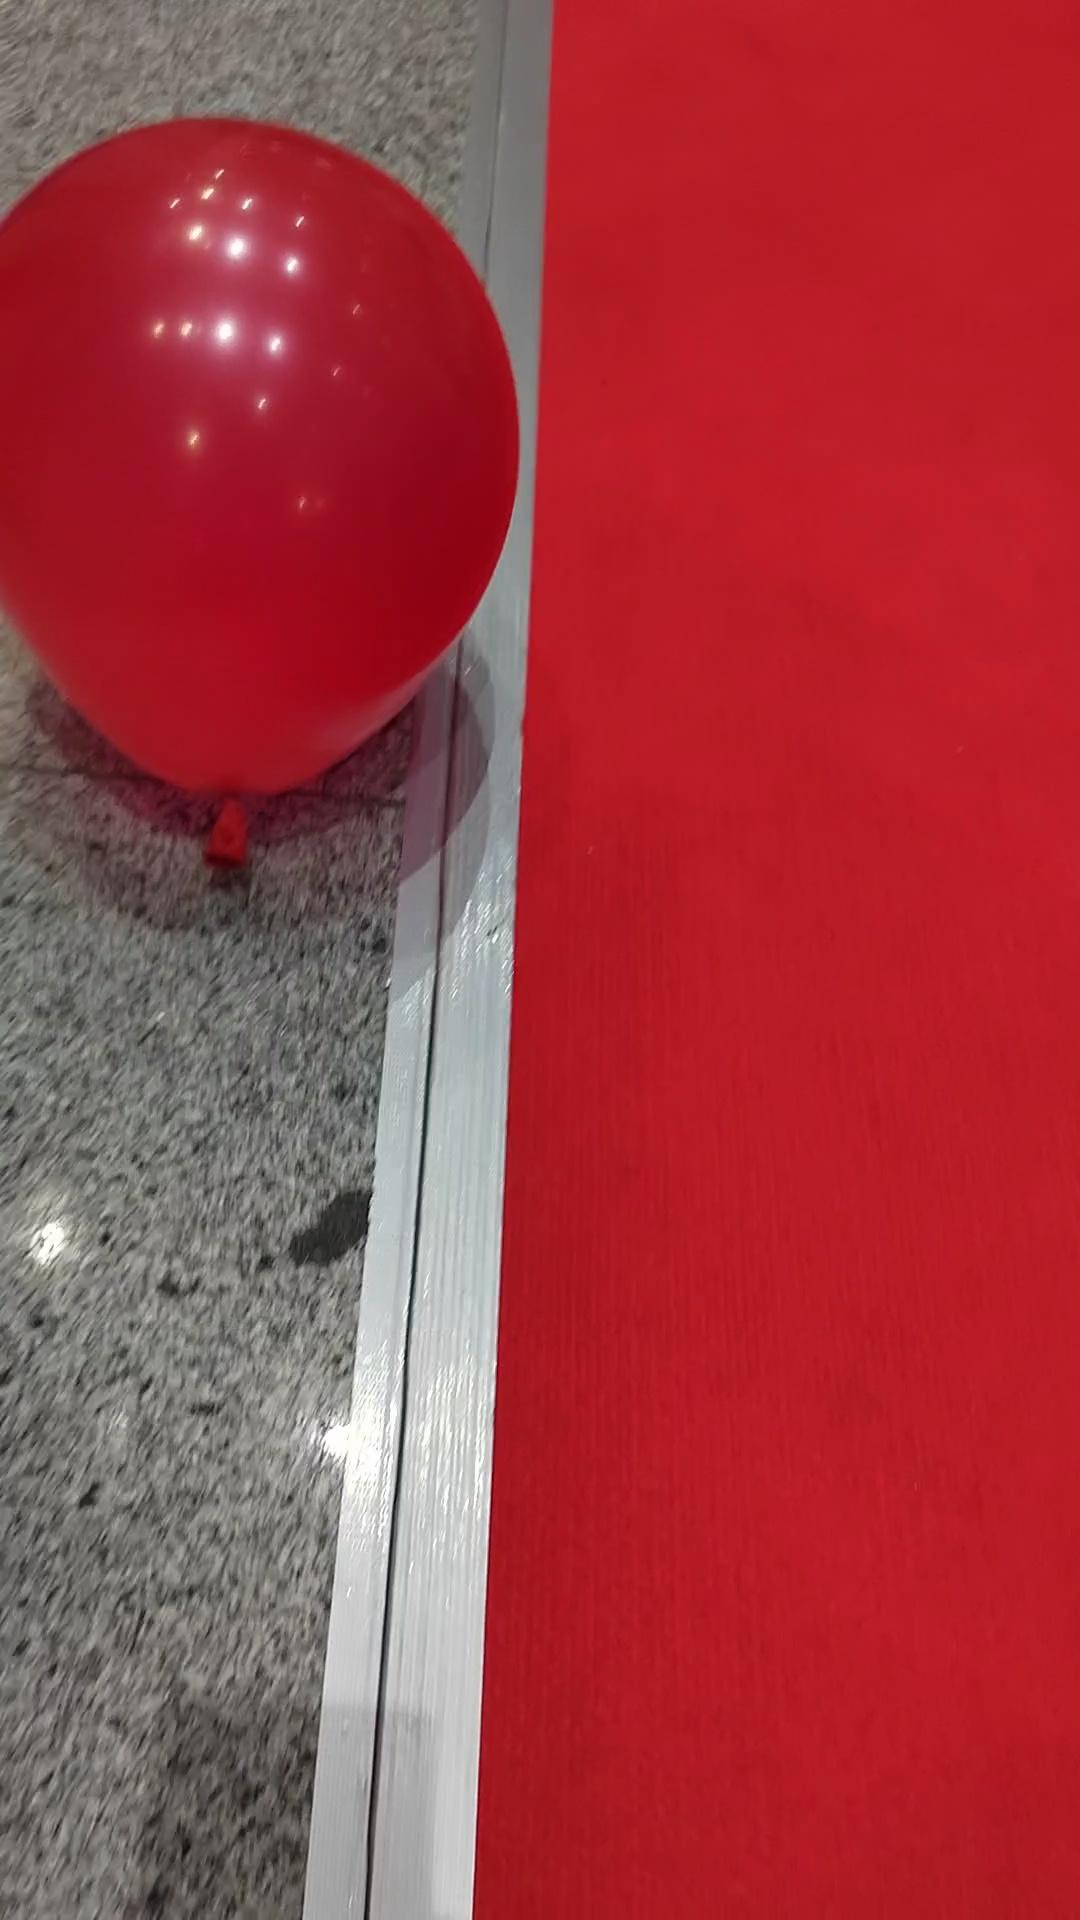red: (0, 108, 524, 804)
